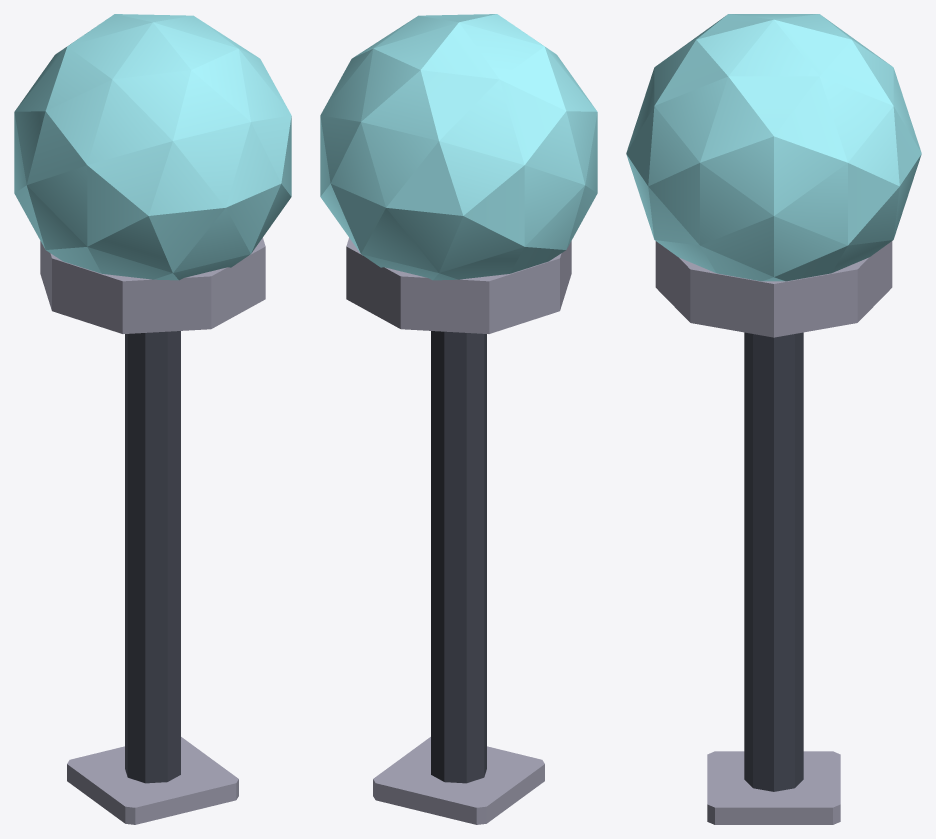
File: LDLamp.obj
3 views of the same model, side by side, from view 1: azimuth 30°, elevation 25°; view 2: azimuth 150°, elevation 25°; view 3: azimuth 270°, elevation 25° (orthographic).
Bounding box in the file's own units: 1 × 2.9 × 1.
